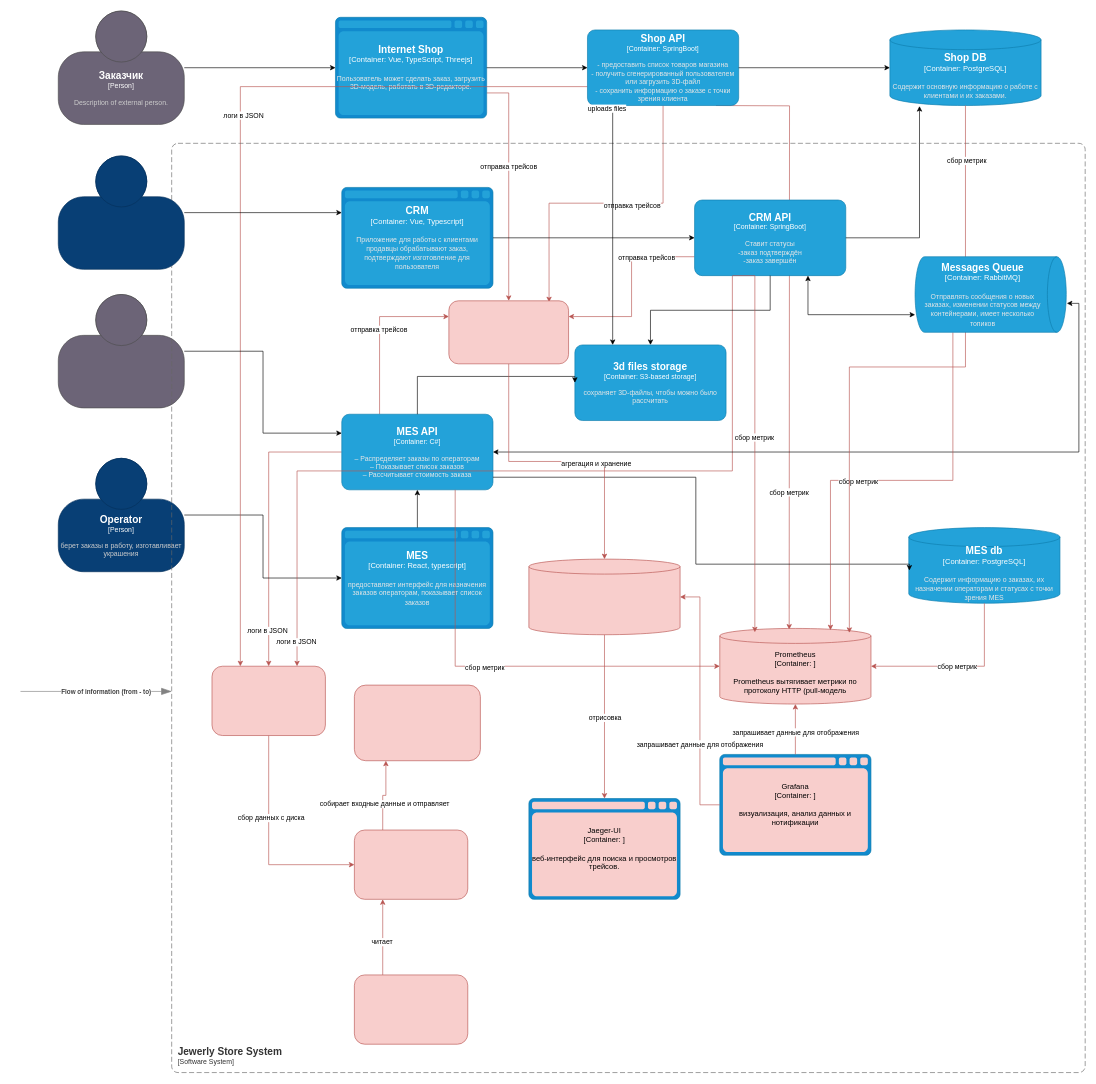
The diagram is 1096 pixels wide and 1084 high, and some of its shapes have lost their labels. The shapes that lost their labels are listed below. From the top down, each one's centre as x and y in pixels, then its label:
At (x=121, y=212): "Продавец [Person] Работает с заказом, подтверждает изготовление для пользователя".
At (x=121, y=351): "API user [Person] Description of external person.".
At (x=508, y=332): "OpenTelemetry Collector".
At (x=604, y=596): "Jaeger db [Container: ] Jaeger хранение данных метрик".
At (x=268, y=701): "Filebeat (на каждом хосте) агрегирует данные из разных источников".
At (x=417, y=722): "Elasticsearch документоориентированная распределённая база данных NoSQL".
At (x=411, y=864): "Logstash серверный конвейер обработки данных .".
At (x=411, y=1009): "Kibana визуализация документов Elasticsearch".
